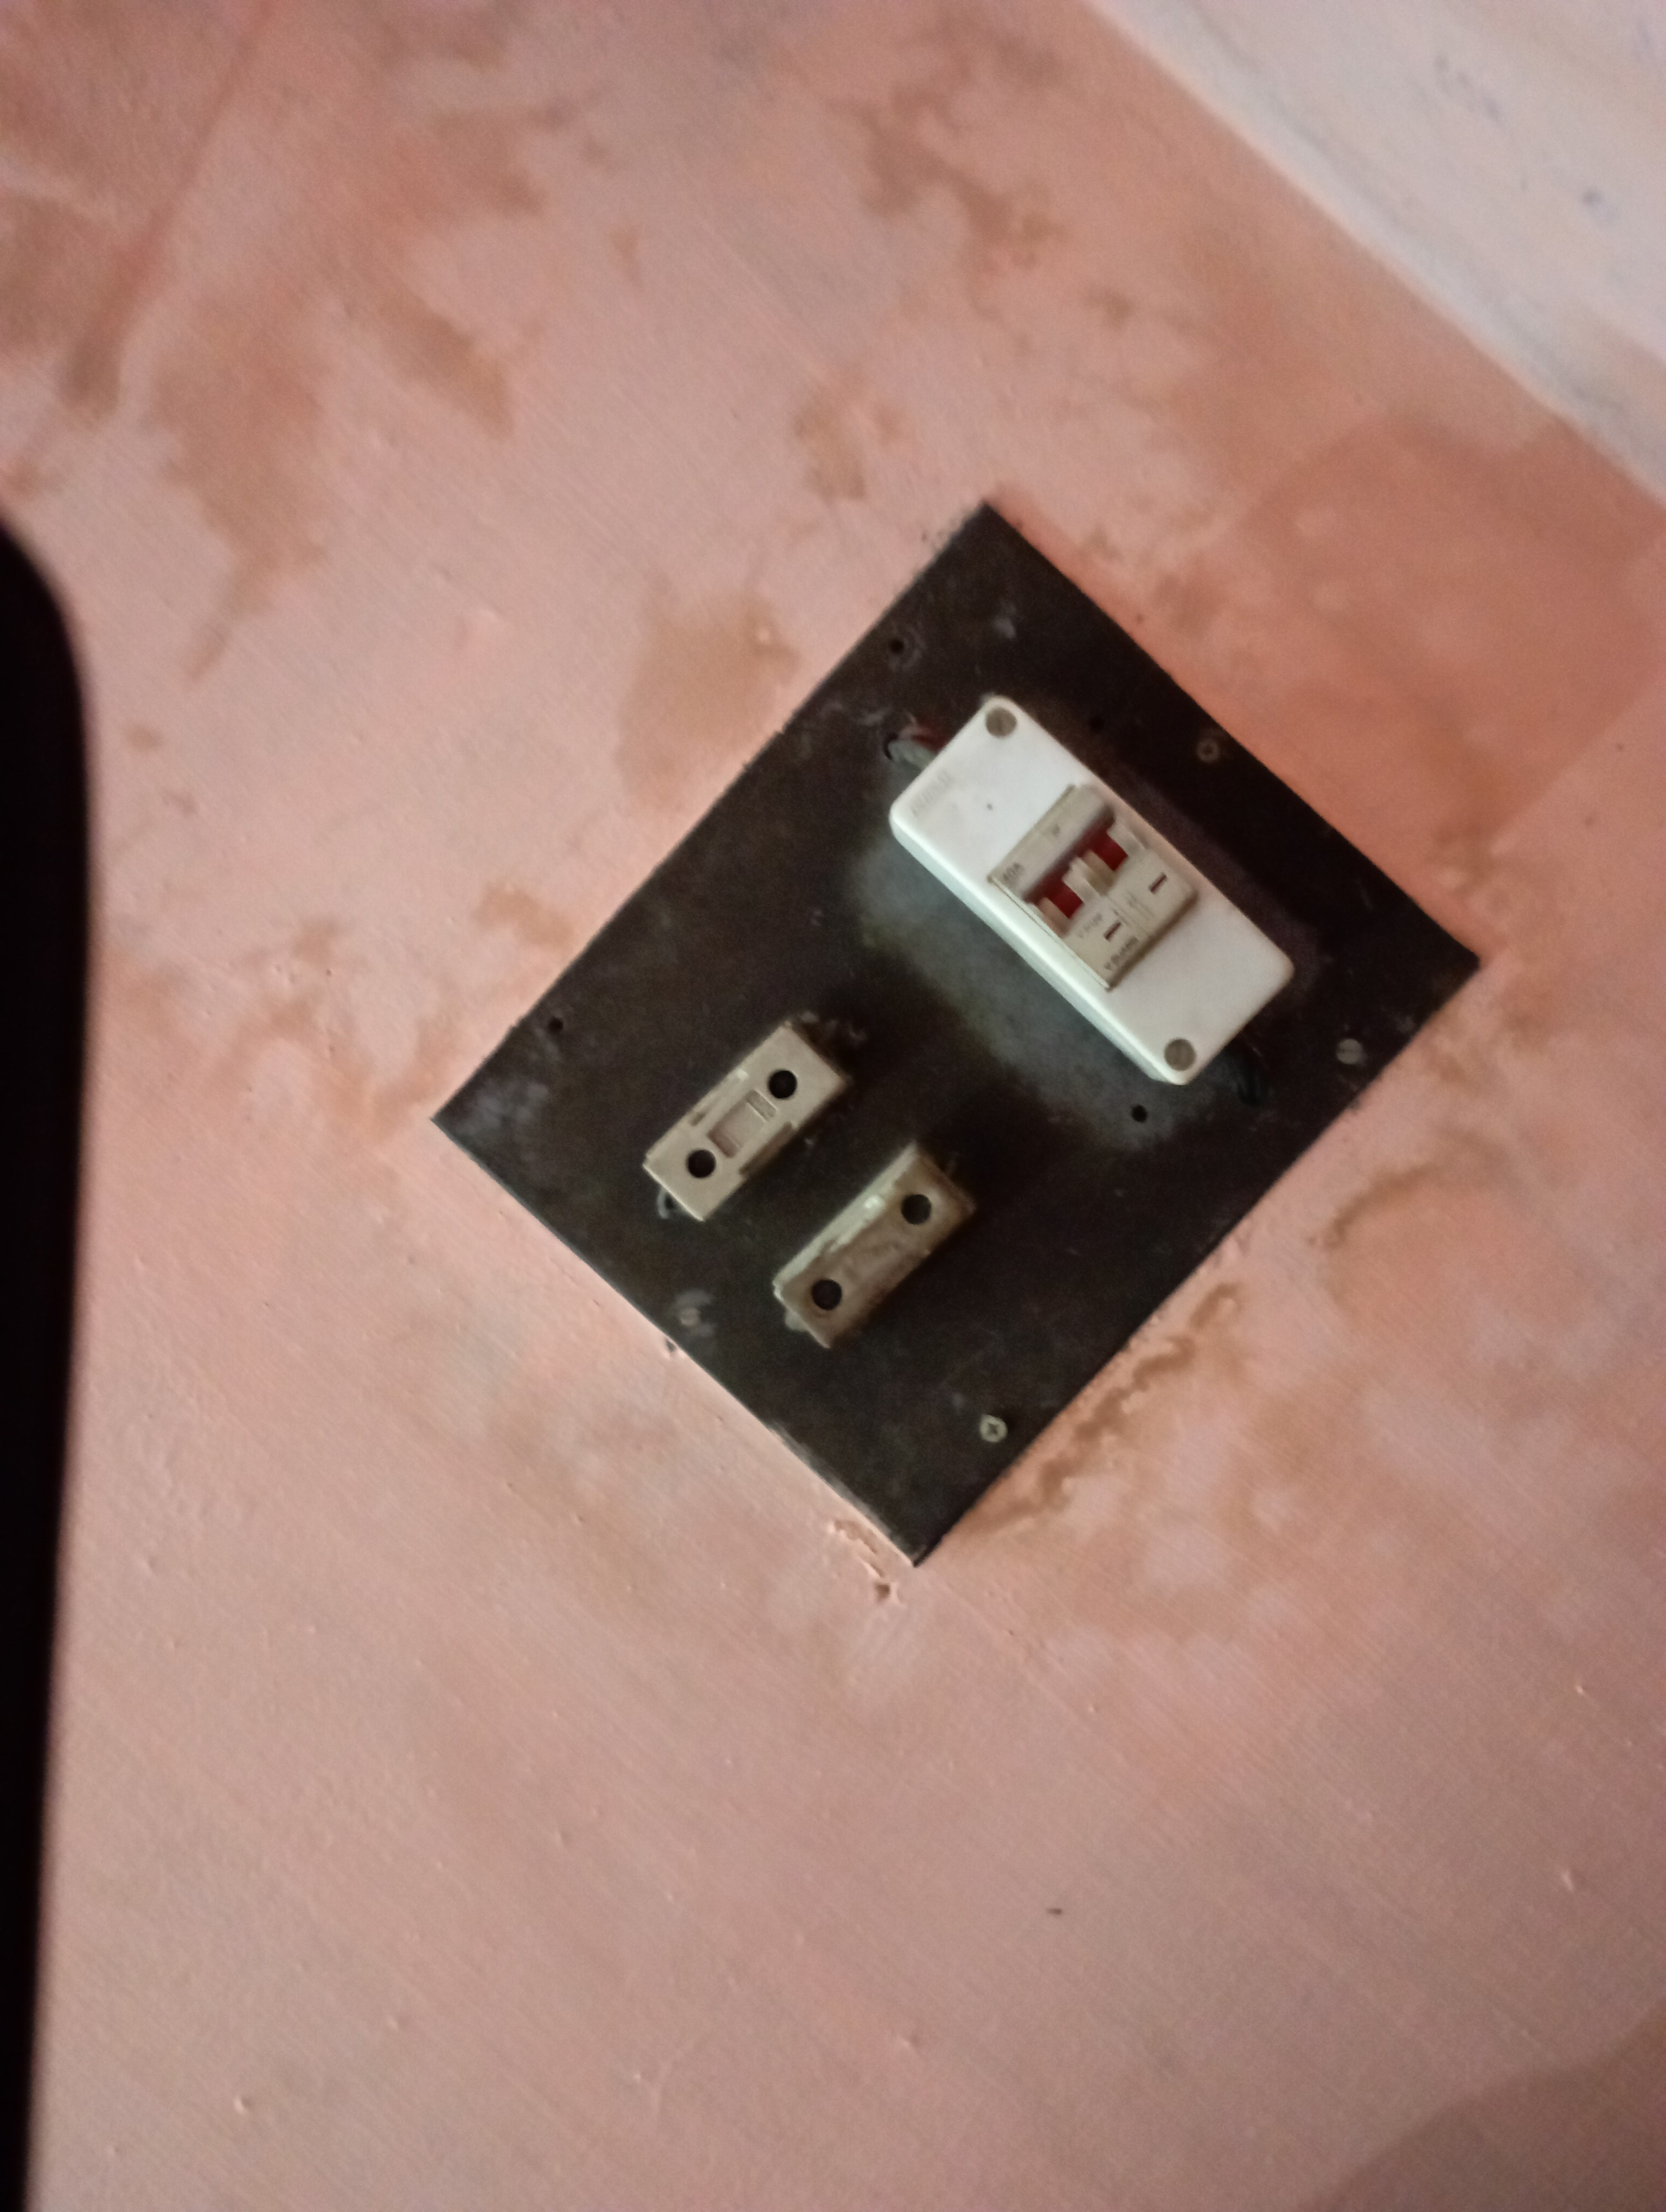ciruit_breaker: (877, 635, 1314, 1098)
fuse: (630, 991, 842, 1229), (775, 1128, 984, 1366)
